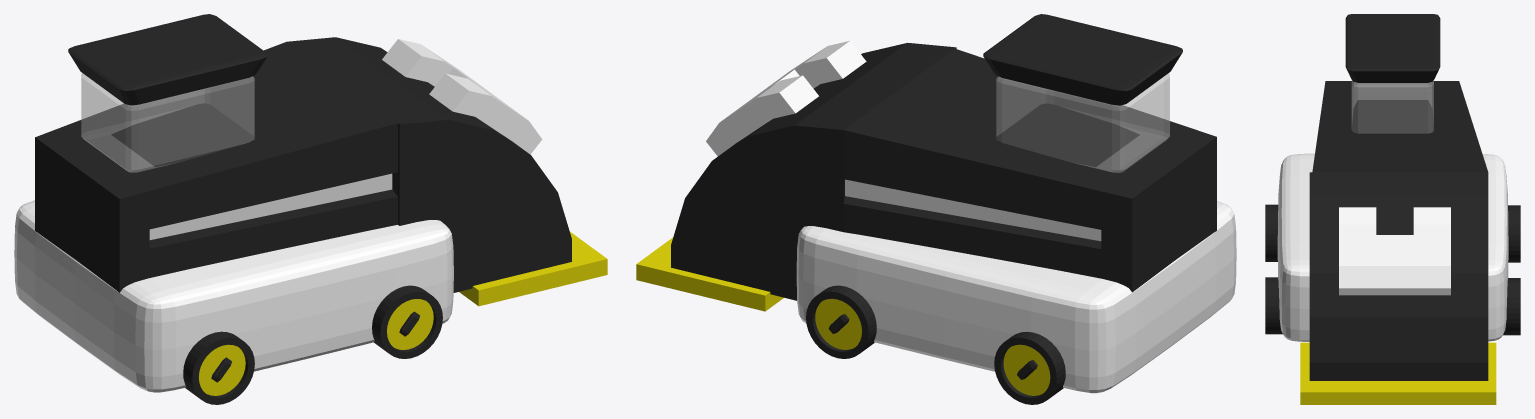
File: Aspirador.fbx
3 views of the same model, side by side, from view 1: azimuth 30°, elevation 25°; view 2: azimuth 150°, elevation 25°; view 3: azimuth 270°, elevation 25° (orthographic). The views are drawn at different scales.
Visible parts, largest first — view 1: Aspirador; view 2: Aspirador; view 3: Aspirador.
Boxes of the visible parts, x1,y1,x2,y2 form: Aspirador: (14,14,607,404); Aspirador: (636,14,1236,404); Aspirador: (1265,14,1520,404).
Bounding box in the file's own units: 461 × 267 × 271.
